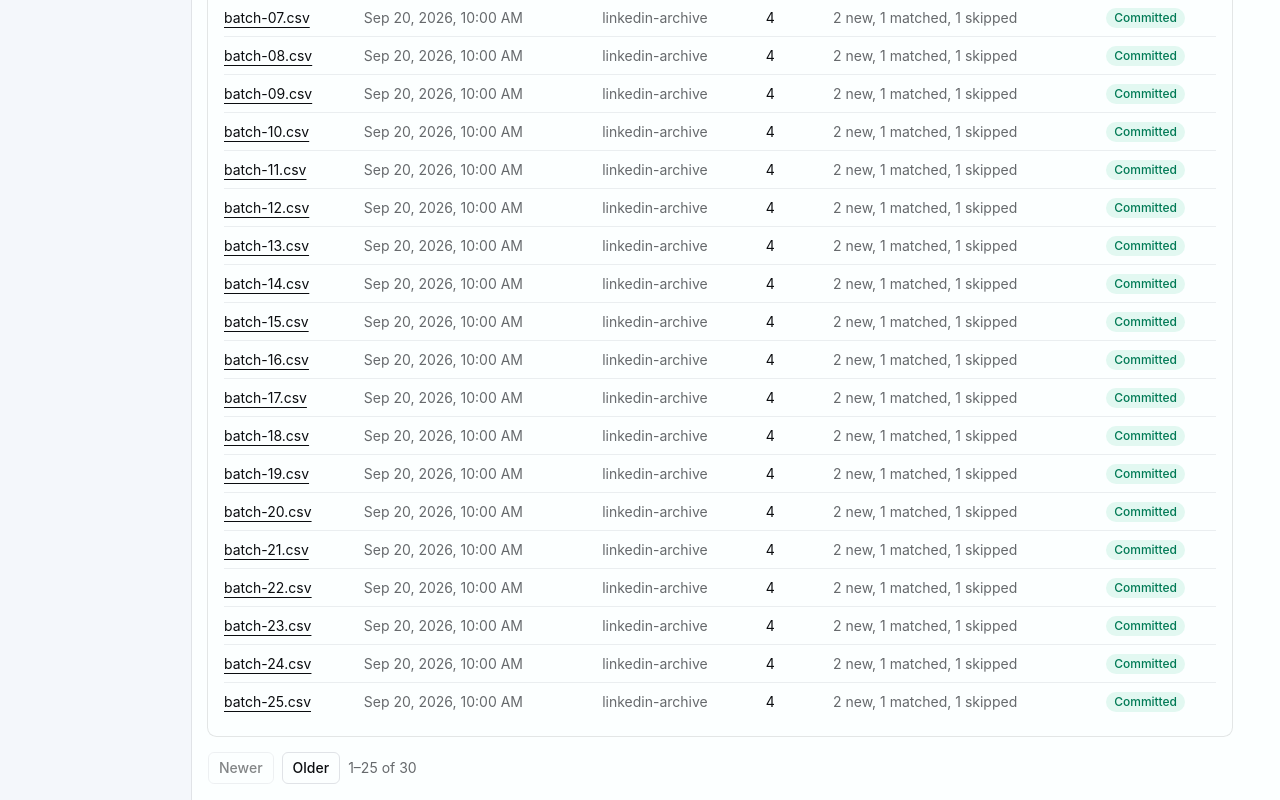
Test: import history › pages through a long history, newest first
The width and height of the screenshot is (1280, 800).
(page scrolled)
Expected: the text "1–25 of 30" is shown, [348, 758, 417, 778]
Expected: the button "Newer" is disabled, [208, 752, 274, 784]
Click the button "Older" at (311,768), box [282, 752, 340, 784]
(page scrolled)
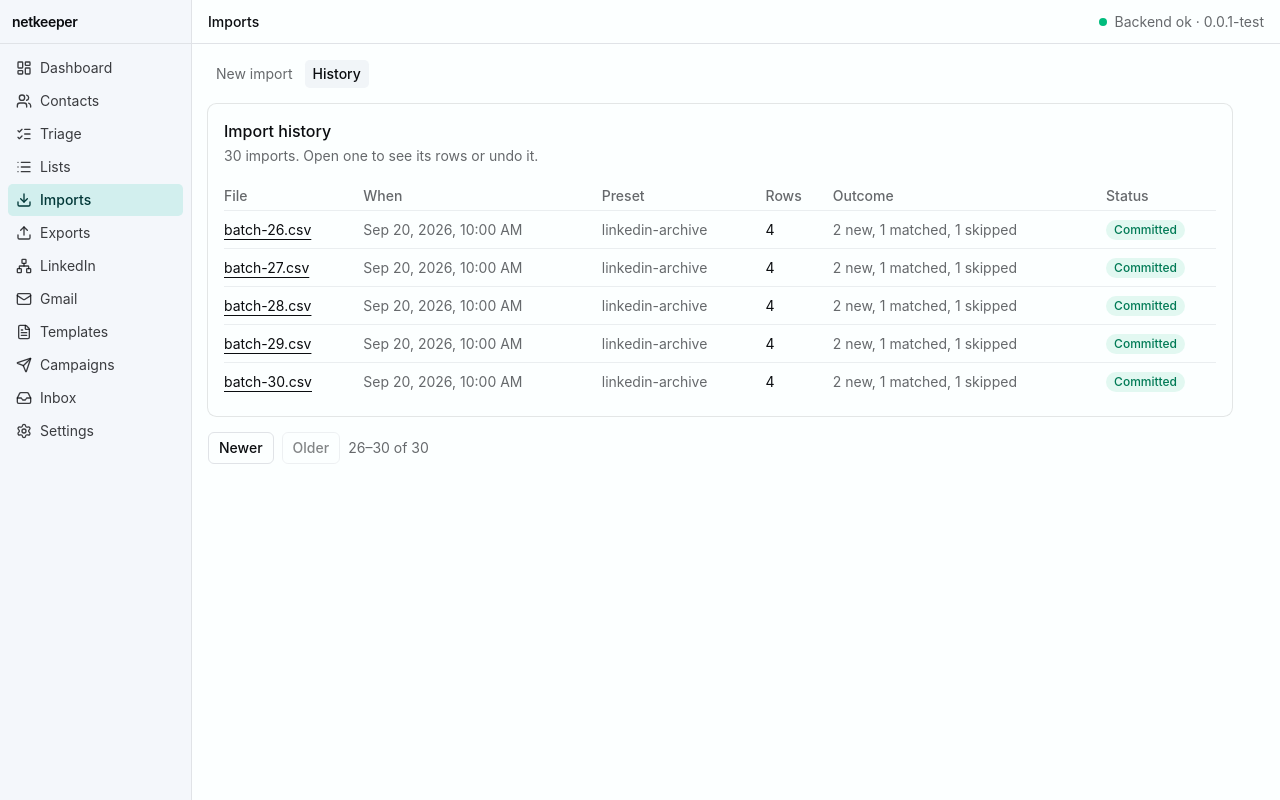
Now the link "batch-26.csv" is shown, box [224, 220, 311, 238]
Now the text "26–30 of 30" is shown, box [348, 438, 429, 458]
Now the button "Older" is disabled, box [282, 432, 340, 464]
Click the button "Newer" at (241,448), box [208, 432, 274, 464]
(page scrolled)
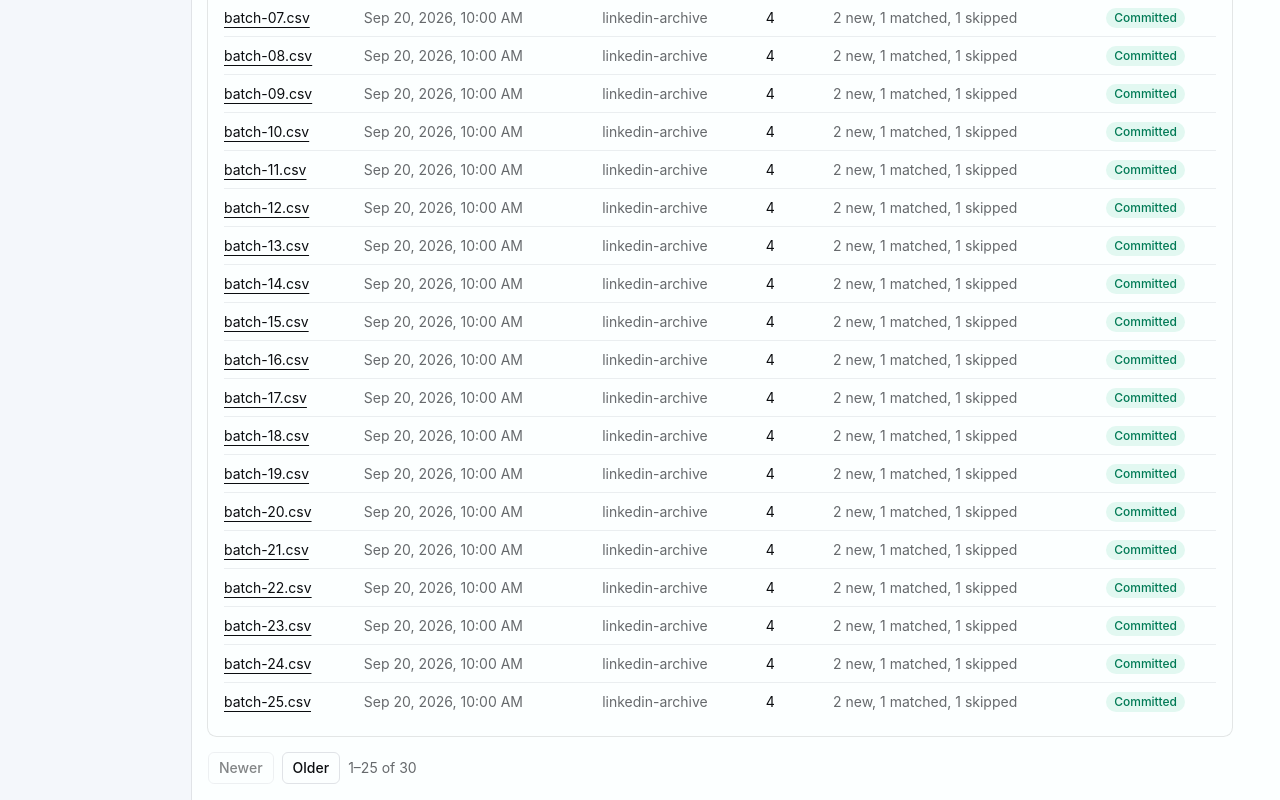
Now the text "1–25 of 30" is shown, box [348, 758, 417, 778]
